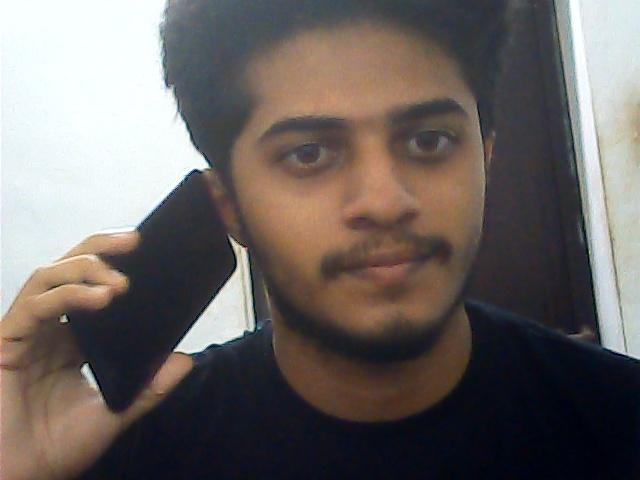PhoneUse: (62, 170, 238, 414)
SafeDriving: (264, 125, 356, 180), (386, 112, 469, 170)
